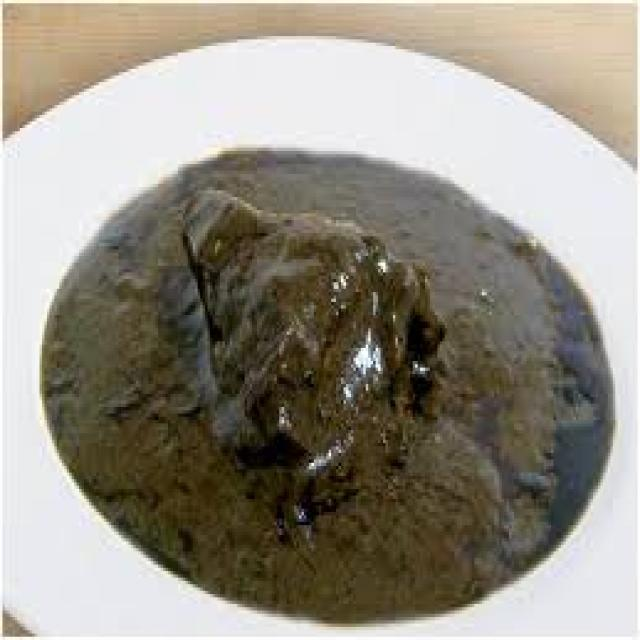Melloukhia: (0, 114, 633, 628)
